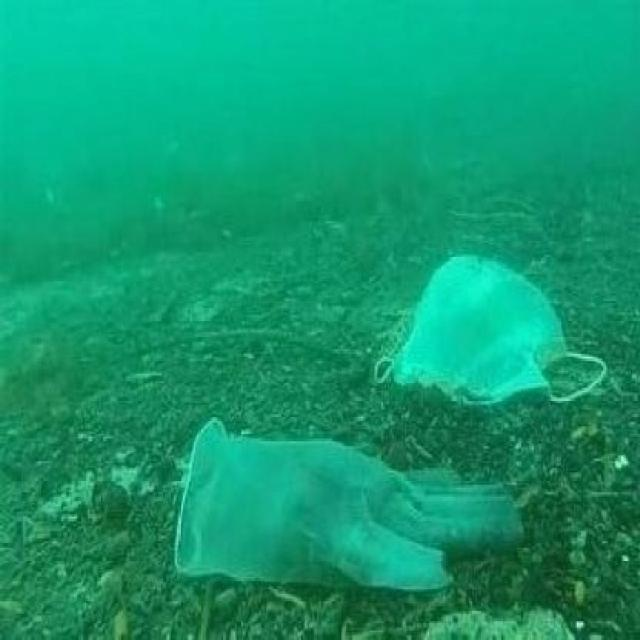Mask: (373, 250, 610, 410)
glove: (173, 417, 525, 594)
